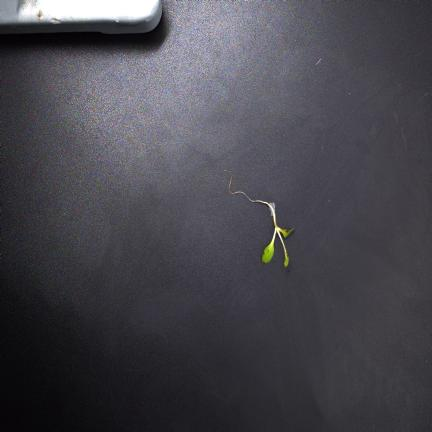leaf1: (280, 229, 293, 237)
leaf2: (285, 252, 288, 267)
leaf3: (262, 241, 274, 262)
root: (229, 175, 272, 208)
stem: (271, 208, 286, 250)
